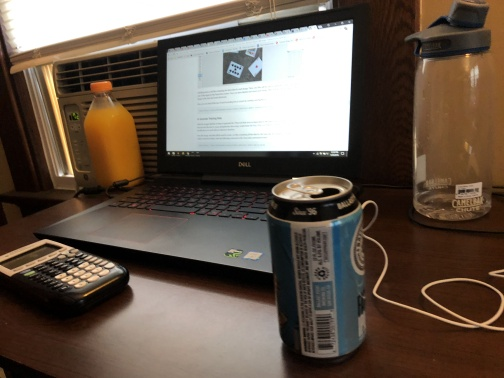can: (263, 174, 369, 362)
